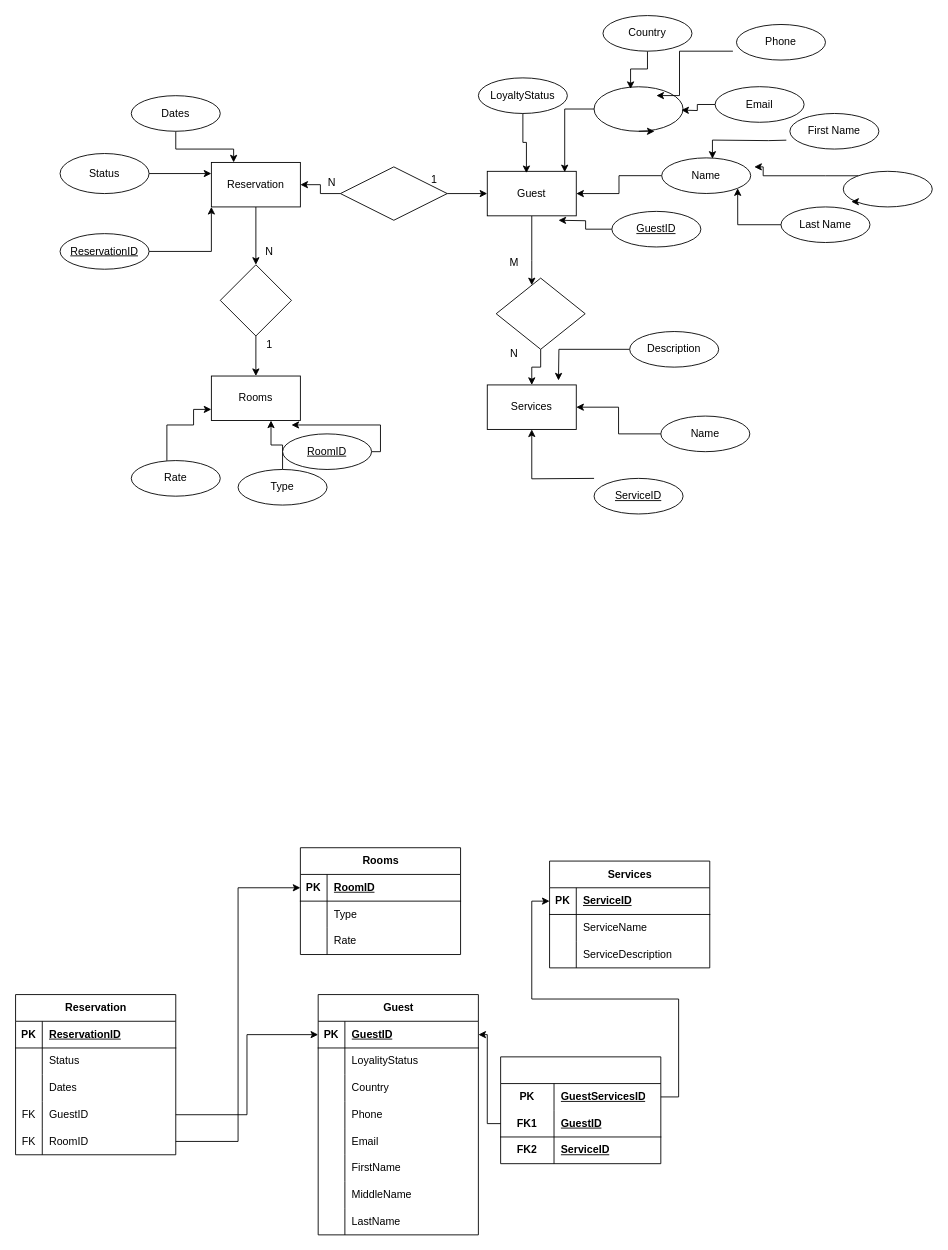
This 948x1250 diagram has some shape labels left out. The box of each missing label's shape, as (x1, y1, x2, y2) in pixels:
ContactDetails: (593, 86, 683, 131)
GuestServices: (495, 277, 585, 349)
Includes: (219, 264, 291, 336)
Makes reservation: (340, 166, 447, 220)
Middle Name: (842, 170, 932, 207)
Uses: (500, 1056, 661, 1164)
